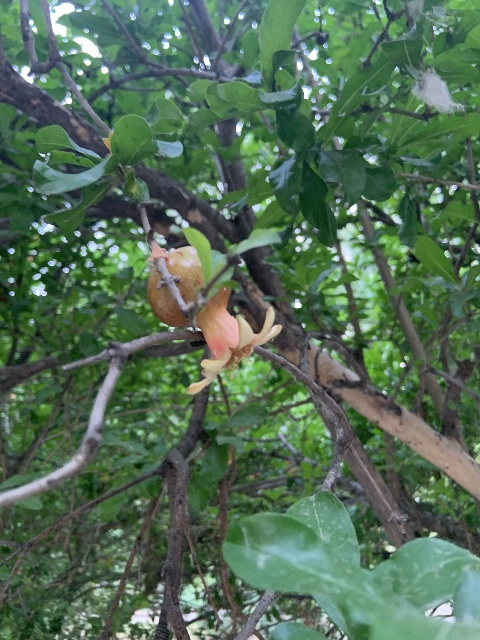early-fruit: (146, 246, 282, 395)
